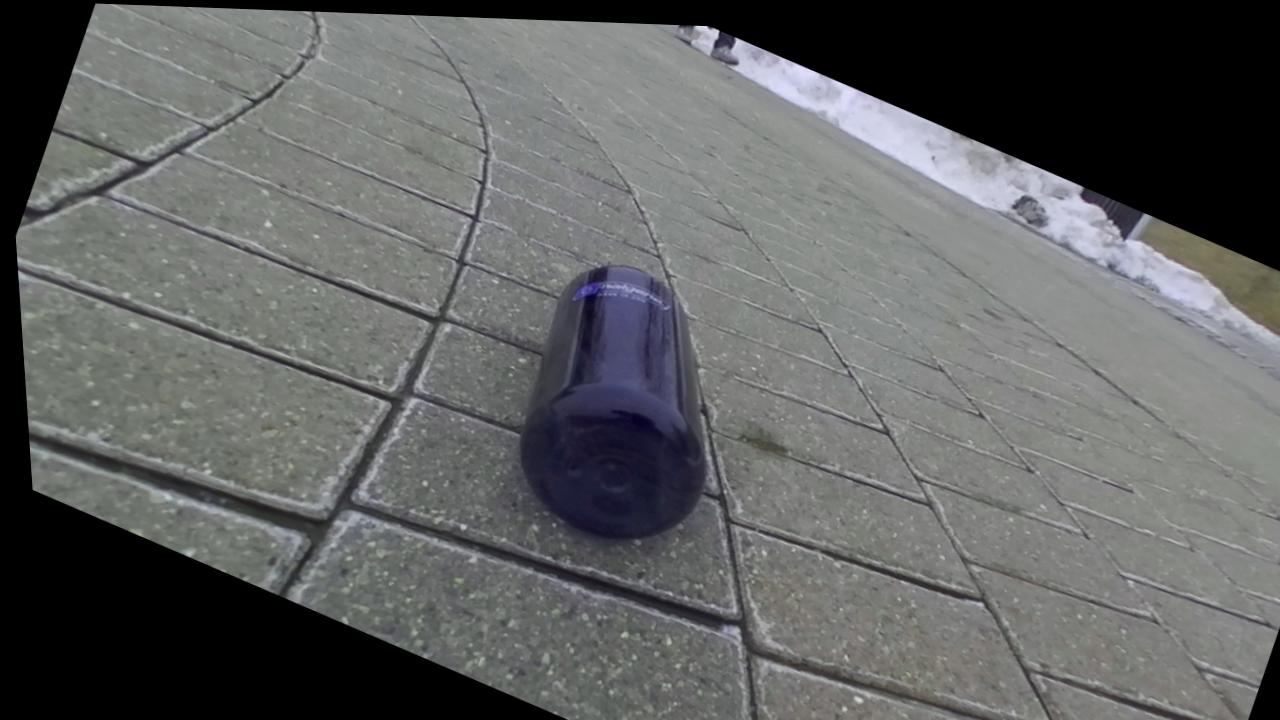bottle: (520, 264, 704, 538)
